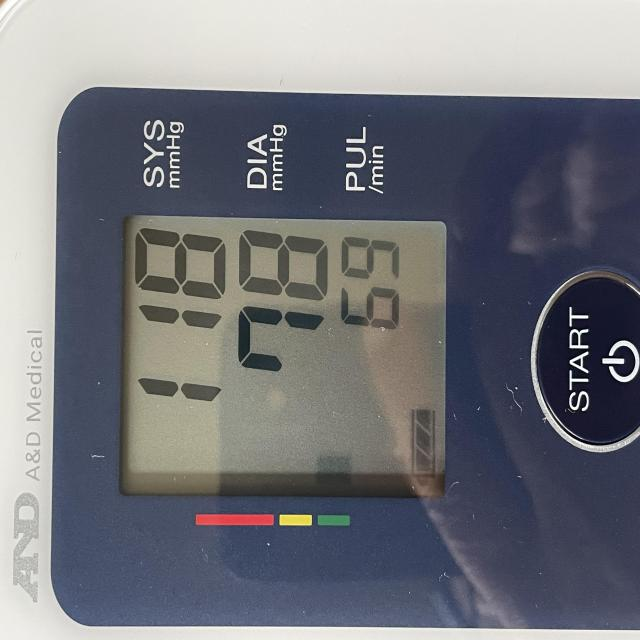bp: (0, 86, 640, 640)
